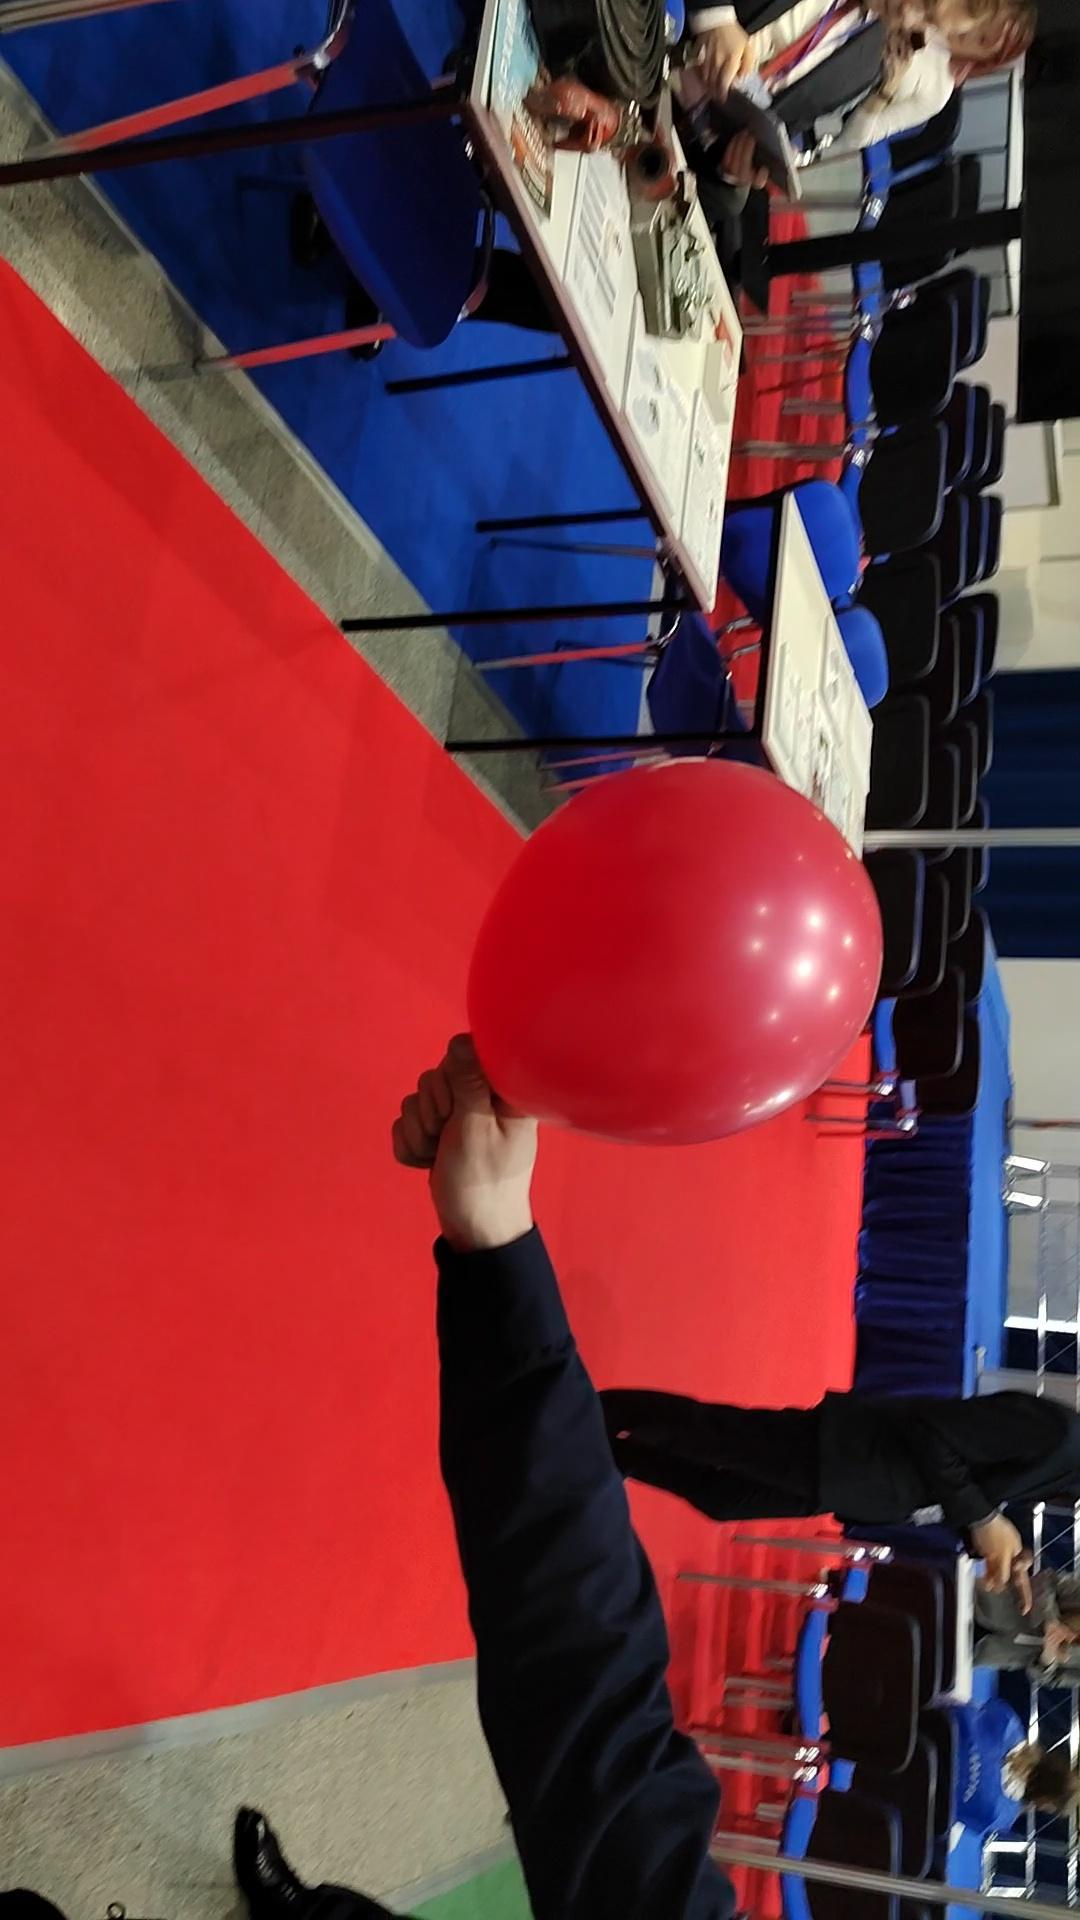red: (456, 761, 891, 1147)
